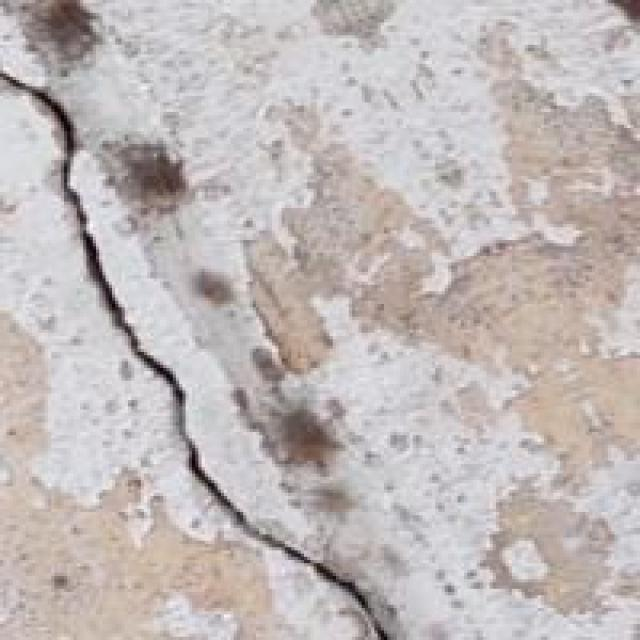Crack: (0, 64, 390, 637)
